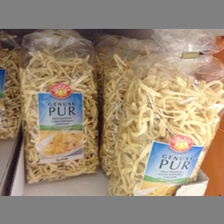pasta: (108, 56, 223, 196), (19, 32, 100, 183)
